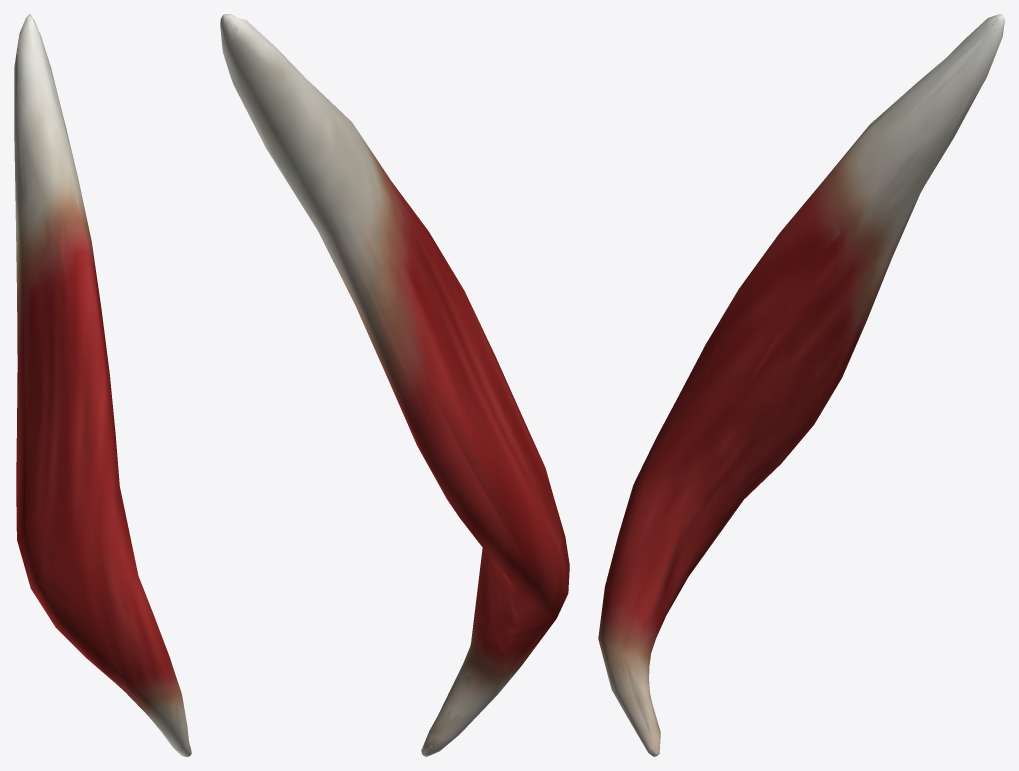
File: R Deltoideus Scapularis.fbx
3 renders of one model, left to right at view 1: azimuth 30°, elevation 25°; view 2: azimuth 150°, elevation 25°; view 3: azimuth 270°, elevation 25°, orthographic. The views are drawn at different scales.
Parts seen in each view (by area): view 1: R Deltoideus Scapularis, R Deltoideus Scapularis low, R Deltoideus Scapularis high; view 2: R Deltoideus Scapularis, R Deltoideus Scapularis low, R Deltoideus Scapularis high; view 3: R Deltoideus Scapularis, R Deltoideus Scapularis low, R Deltoideus Scapularis high.
Part boxes in pixels (x1,y1,x2,y2): R Deltoideus Scapularis: [14, 14, 191, 756]; R Deltoideus Scapularis low: [14, 21, 191, 752]; R Deltoideus Scapularis high: [18, 20, 189, 752]; R Deltoideus Scapularis: [220, 14, 569, 756]; R Deltoideus Scapularis low: [227, 15, 569, 755]; R Deltoideus Scapularis high: [221, 17, 564, 750]; R Deltoideus Scapularis: [598, 14, 1004, 756]; R Deltoideus Scapularis low: [598, 33, 987, 753]; R Deltoideus Scapularis high: [605, 16, 1003, 752].
Size of the model in its own units: 1.06 by 5.12 by 2.56.
1 material, 1 textured.
